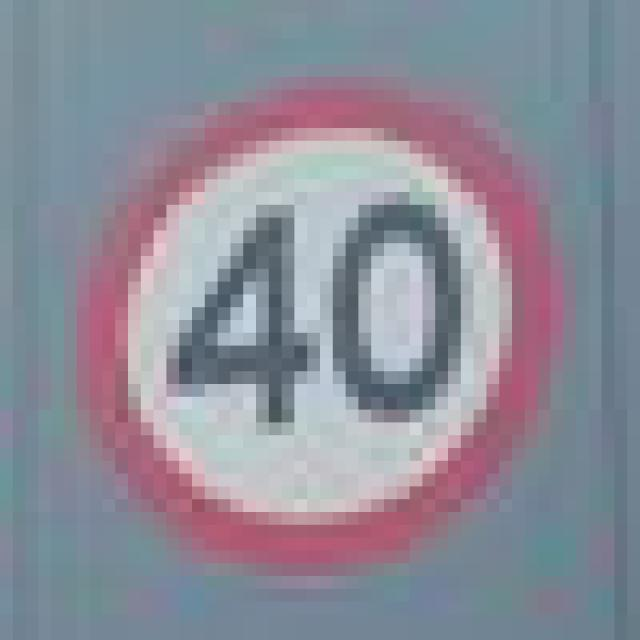falling_rocks: (76, 77, 538, 563)
